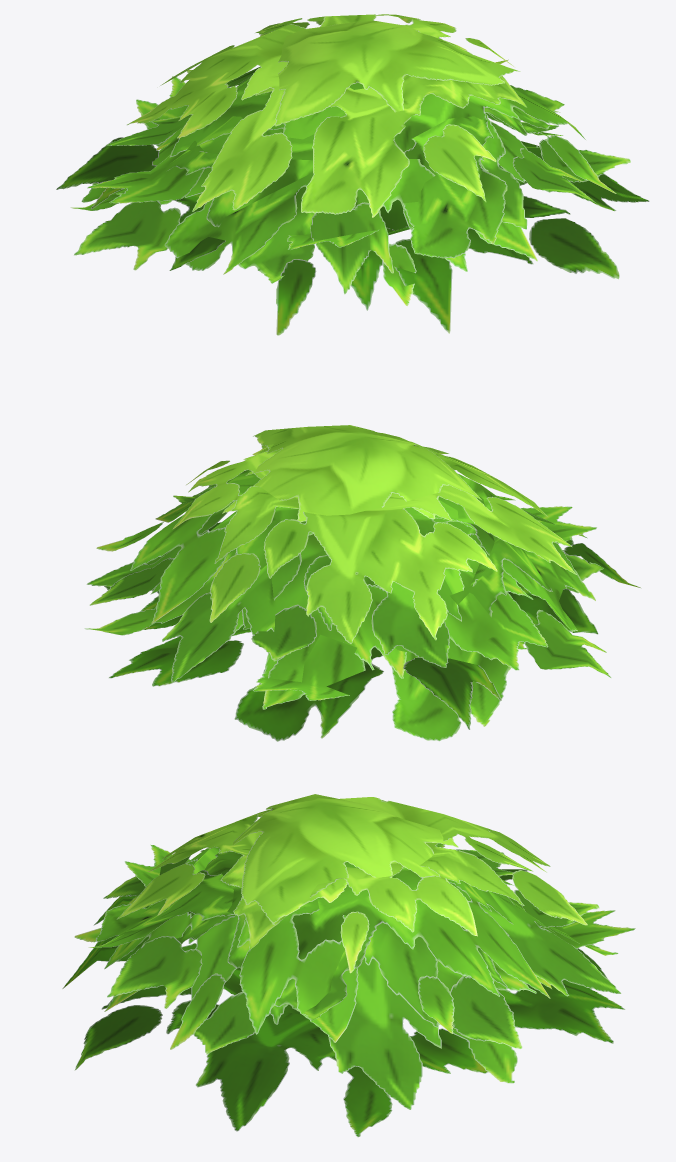
The model's file is bush_medium.dae.
3 renders of one model, top to bottom at view 1: azimuth 30°, elevation 25°; view 2: azimuth 150°, elevation 25°; view 3: azimuth 270°, elevation 25°, orthographic. The views are drawn at different scales.
Parts seen in each view (by area): view 1: bush_green_medium; view 2: bush_green_medium; view 3: bush_green_medium.
Part boxes in pixels (x1,y1,x2,y2): bush_green_medium: [56, 14, 649, 335]; bush_green_medium: [84, 425, 641, 741]; bush_green_medium: [62, 794, 635, 1137].
Bounding box in the file's own units: 0.7188 × 0.6897 × 0.2972.
Materials: 1 (1 with a texture image).
